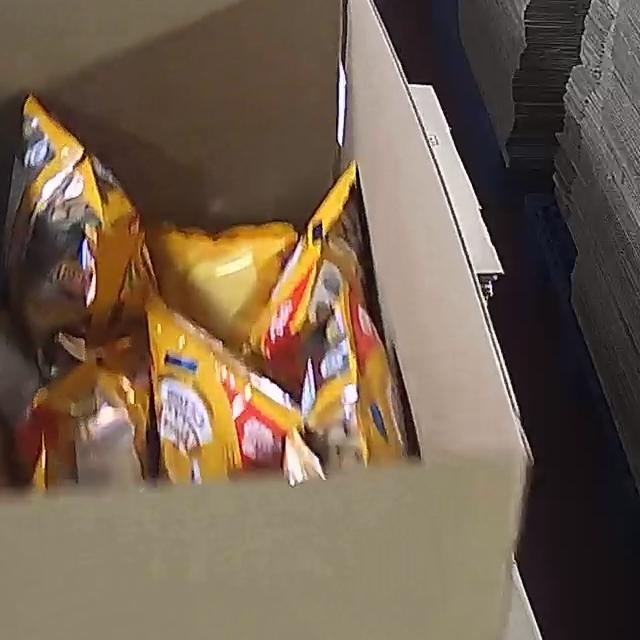cheese: (0, 91, 409, 493)
